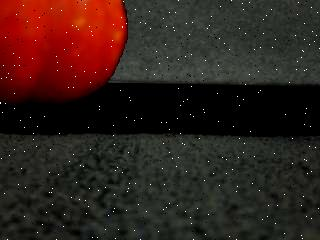Pumpkin: (0, 0, 131, 109)
